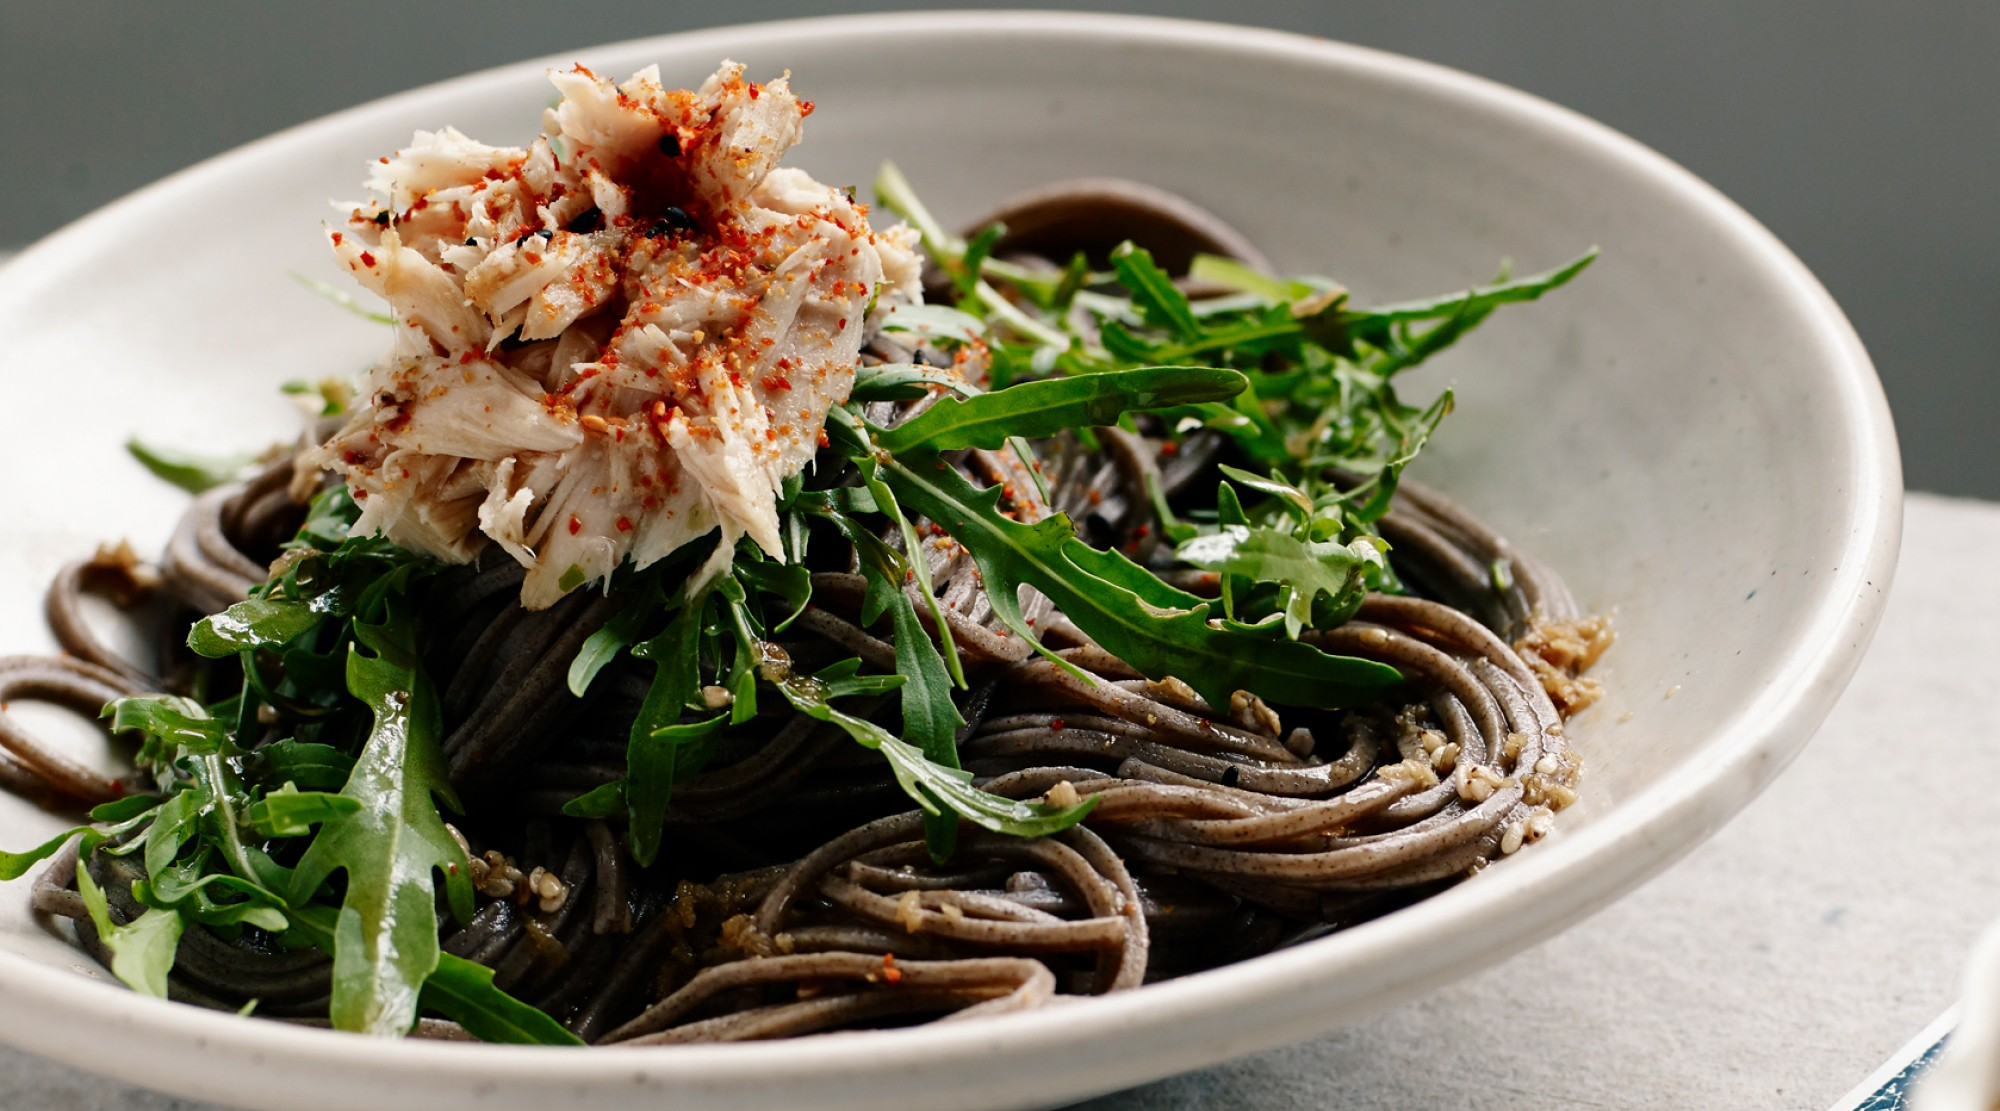Soba: (40, 198, 1607, 1055)
